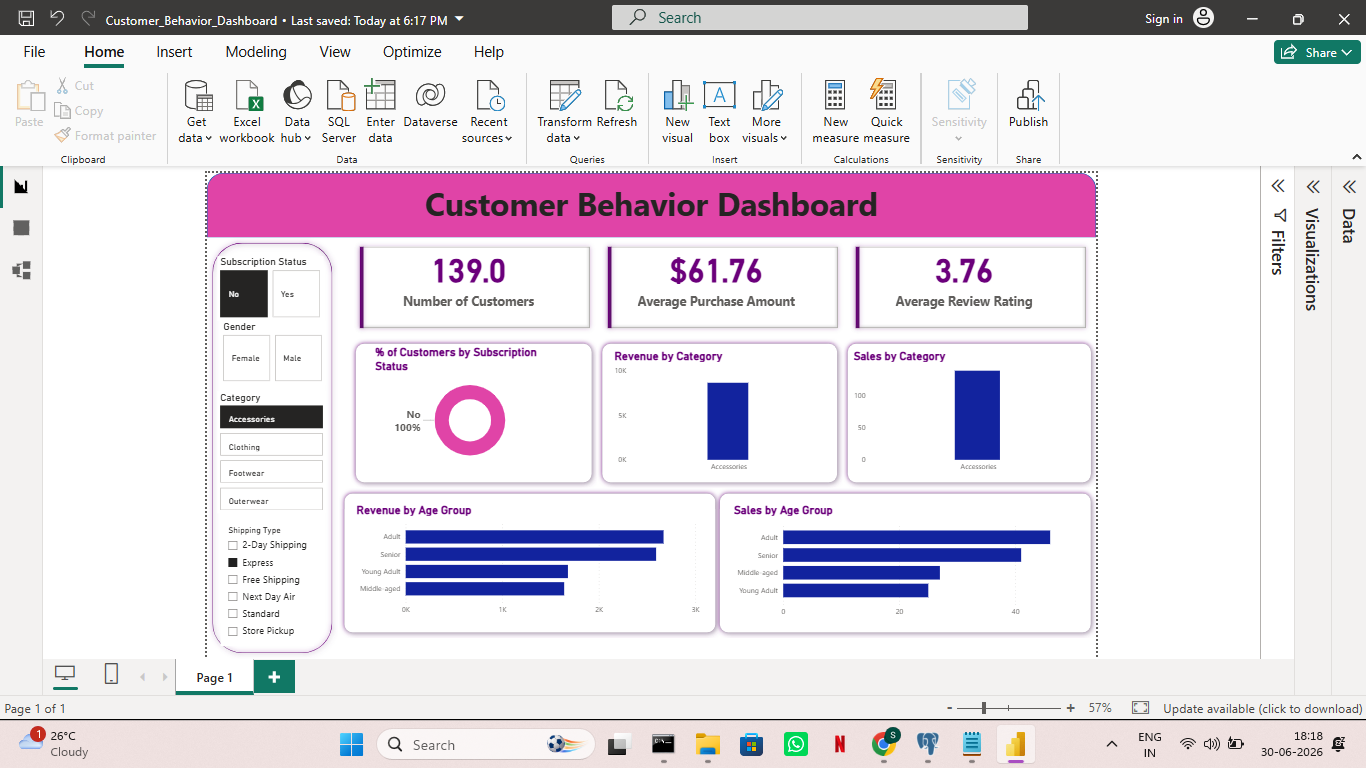

What the dashboard file says about the page in this screenshot:
{"tool":"powerbi","page":{"name":"Page 1","canvas":[1500,820],"ordinal":0},"visuals":[{"type":"cardVisual","fields":{"Data":["public customer.Number of Customers","public customer.Average Purchase Amount","public customer.Average Review Rating"]},"box":[241.4,109.3,1258.2,169.2],"z":0},{"type":"shape","box":[0,0,1500,108.8],"z":1000},{"type":"textbox","box":[0,10.6,1499.6,82.8],"z":2000},{"type":"shape","box":[241.4,278.4,415.9,252],"z":3000},{"type":"donutChart","title":"% of  Customers by Subscription Status","fields":{"Category":["public customer.subscription_status"],"Y":["CountNonNull(public customer.customer_id)"]},"box":[278.4,290.8,329.5,207.9],"z":4000},{"type":"shape","box":[1071.4,278.4,428.2,252],"z":5000},{"type":"shape","box":[657.3,278.4,414.1,252],"z":6000},{"type":"clusteredColumnChart","title":"Revenue by Category","fields":{"Y":["Sum(public customer.purchase_amount)"],"Category":["public customer.category"]},"box":[682.5,296.5,366.7,217.5],"z":7000},{"type":"clusteredColumnChart","title":"Sales by Category","fields":{"Y":["CountNonNull(public customer.customer_id)"],"Category":["public customer.category"]},"box":[1086,296.5,401.8,217.5],"z":8000},{"type":"shape","box":[0,109.3,220.3,710.1],"z":9000},{"type":"advancedSlicerVisual","title":"Gender","fields":{"Values":["public customer.gender"]},"box":[22.9,248.5,178,107.5],"z":10000},{"type":"advancedSlicerVisual","title":"Subscription Status","fields":{"Values":["public customer.subscription_status"]},"box":[22.9,139.2,178,107.5],"z":11000},{"type":"advancedSlicerVisual","fields":{"Values":["public customer.category"]},"box":[17.6,368.3,183.3,206.2],"z":12000},{"type":"slicer","title":"Shipping Type","fields":{"Values":["public customer.shipping_type"]},"box":[22.8,589.5,157.9,208.8],"z":13000},{"type":"shape","box":[222.8,531.6,643.9,252.6],"z":15000},{"type":"shape","box":[856.1,531.6,643.9,252.6],"z":16000},{"type":"clusteredBarChart","title":"Sales by Age Group","fields":{"Y":["CountNonNull(public customer.customer_id)"],"Category":["public customer.age_group"]},"box":[884.2,556.1,589.5,201.8],"z":17000},{"type":"clusteredBarChart","title":"Revenue by Age Group","fields":{"Y":["Sum(public customer.purchase_amount)"],"Category":["public customer.age_group"]},"box":[247.4,556.1,594.7,198.2],"z":17500}]}

Visuals, with their boxes on the page's 1500x820 design canvas (x1, y1, x2, y2). These are canvas units, not pixel positions in the 1366x768 screenshot, which may show the page scaled, cropped or inside an application window:
cardVisual - public customer.Number of Customers x public customer.Average Purchase Amount: 241,109,1500,278
shape: 0,0,1500,109
textbox: 0,11,1500,93
shape: 241,278,657,530
"% of  Customers by Subscription Status" donutChart: 278,291,608,499
shape: 1071,278,1500,530
shape: 657,278,1071,530
"Revenue by Category" clusteredColumnChart: 682,296,1049,514
"Sales by Category" clusteredColumnChart: 1086,296,1488,514
shape: 0,109,220,819
"Gender" advancedSlicerVisual: 23,248,201,356
"Subscription Status" advancedSlicerVisual: 23,139,201,247
advancedSlicerVisual - public customer.category: 18,368,201,574
"Shipping Type" slicer: 23,590,181,798
shape: 223,532,867,784
shape: 856,532,1500,784
"Sales by Age Group" clusteredBarChart: 884,556,1474,758
"Revenue by Age Group" clusteredBarChart: 247,556,842,754
